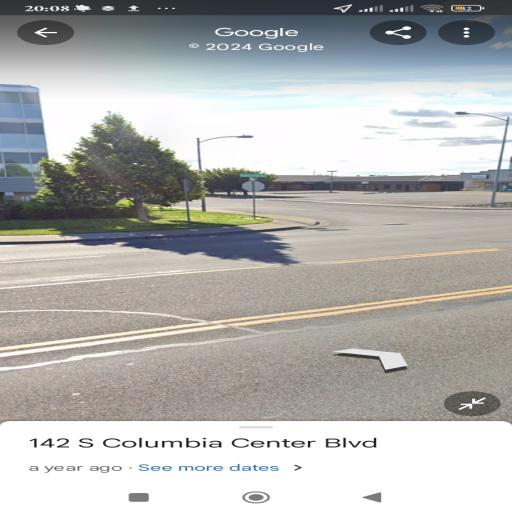Roads: (16, 237, 508, 419), (273, 188, 500, 238)
Trees: (64, 110, 217, 224)
